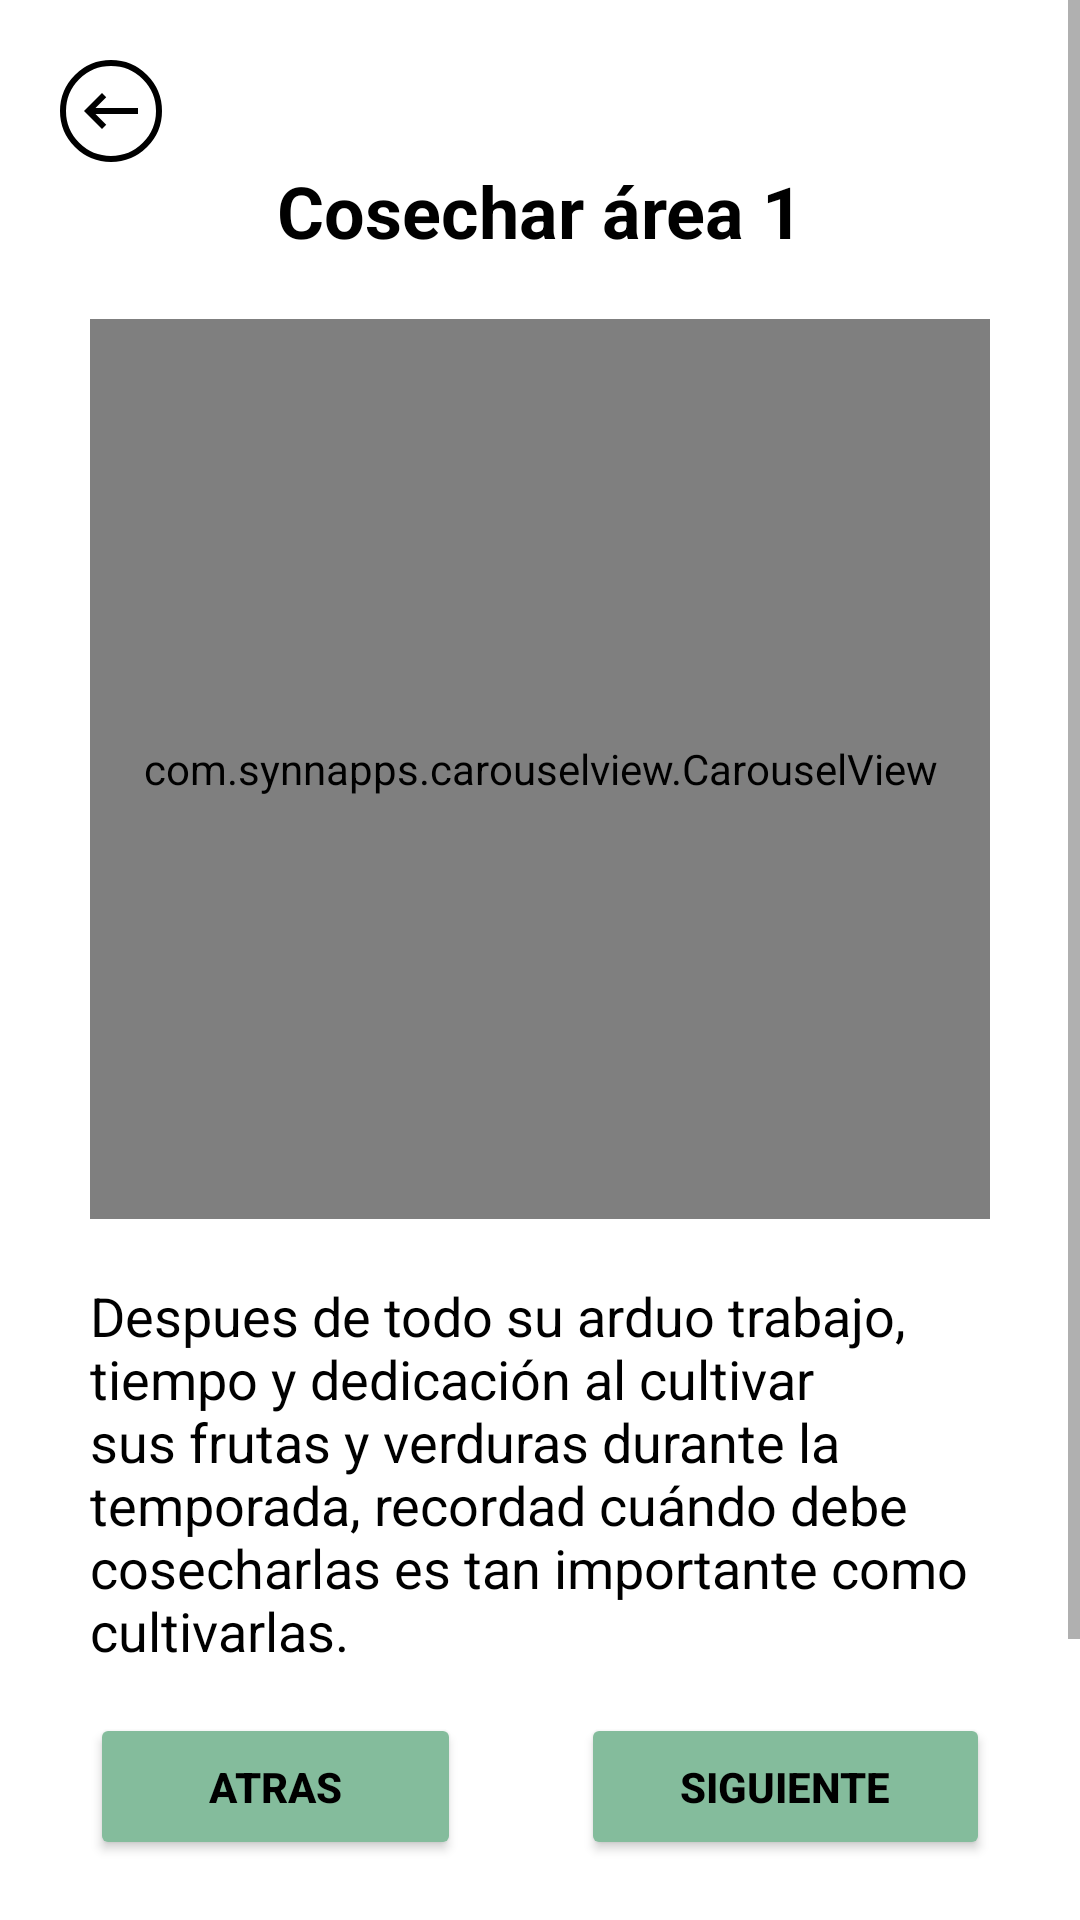

Where to tap for icons on this 1080px x 1920px app screen, as (x=x, y=y):
Volver: (x=111, y=111)
